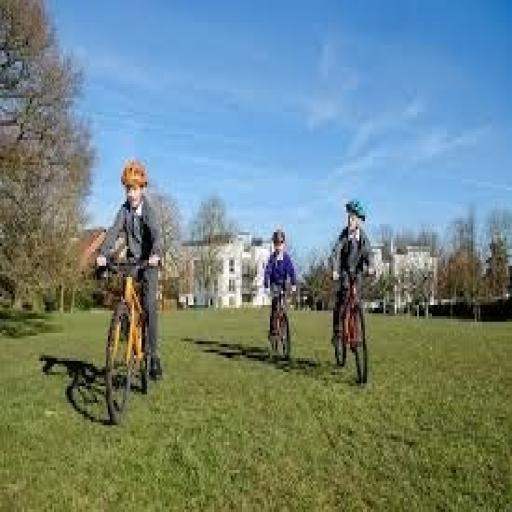cycling: (91, 157, 168, 383), (328, 196, 378, 358), (258, 224, 302, 366)
